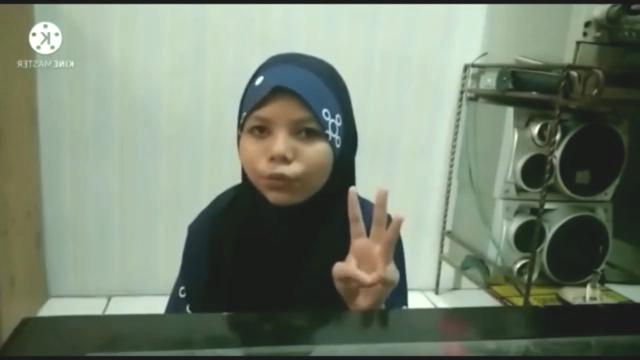W: (325, 178, 405, 306)
